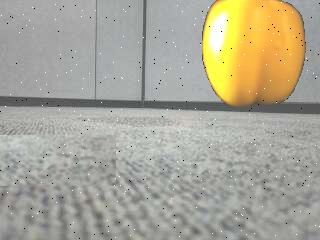Capsicum: (201, 0, 307, 109)
